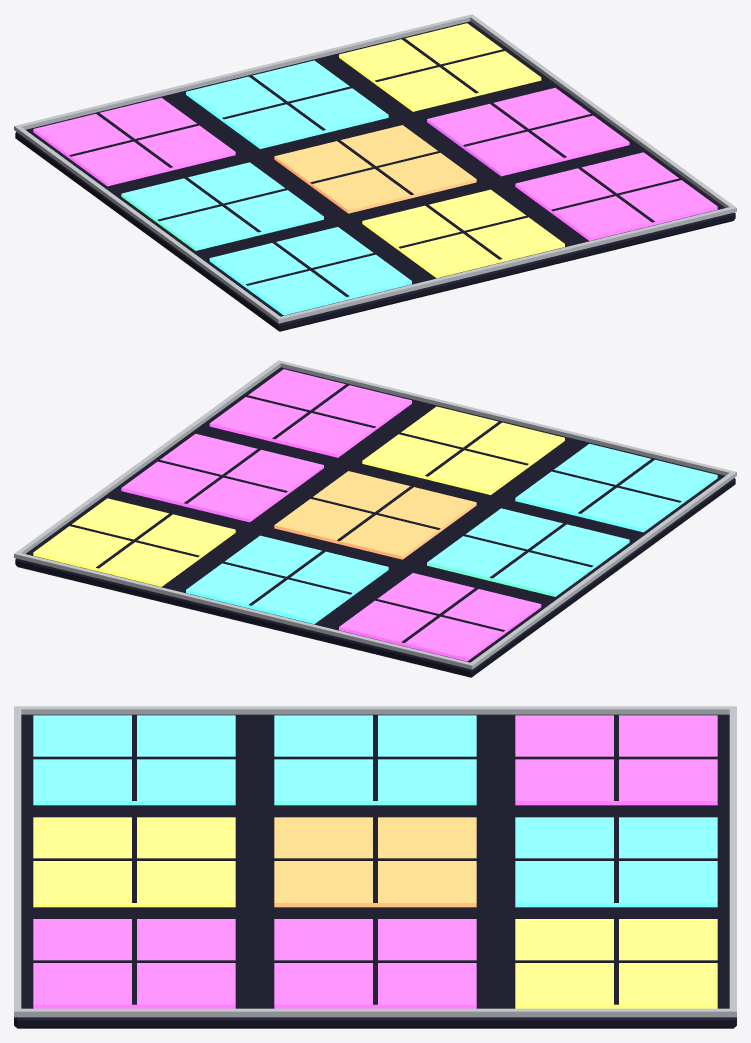
The model's file is dance_floor.glb.
3 renders of one model, top to bottom at view 1: azimuth 30°, elevation 25°; view 2: azimuth 150°, elevation 25°; view 3: azimuth 270°, elevation 25°, orthographic. The views are drawn at different scales.
Parts seen in each view (by area): view 1: dance_floor; view 2: dance_floor; view 3: dance_floor.
Part boxes in pixels (box(x1,y1,x2,y2)): dance_floor: box(14, 14, 736, 331); dance_floor: box(14, 360, 736, 677); dance_floor: box(14, 706, 736, 1028).
Size of the model in its own units: 3 by 0.085 by 3.
